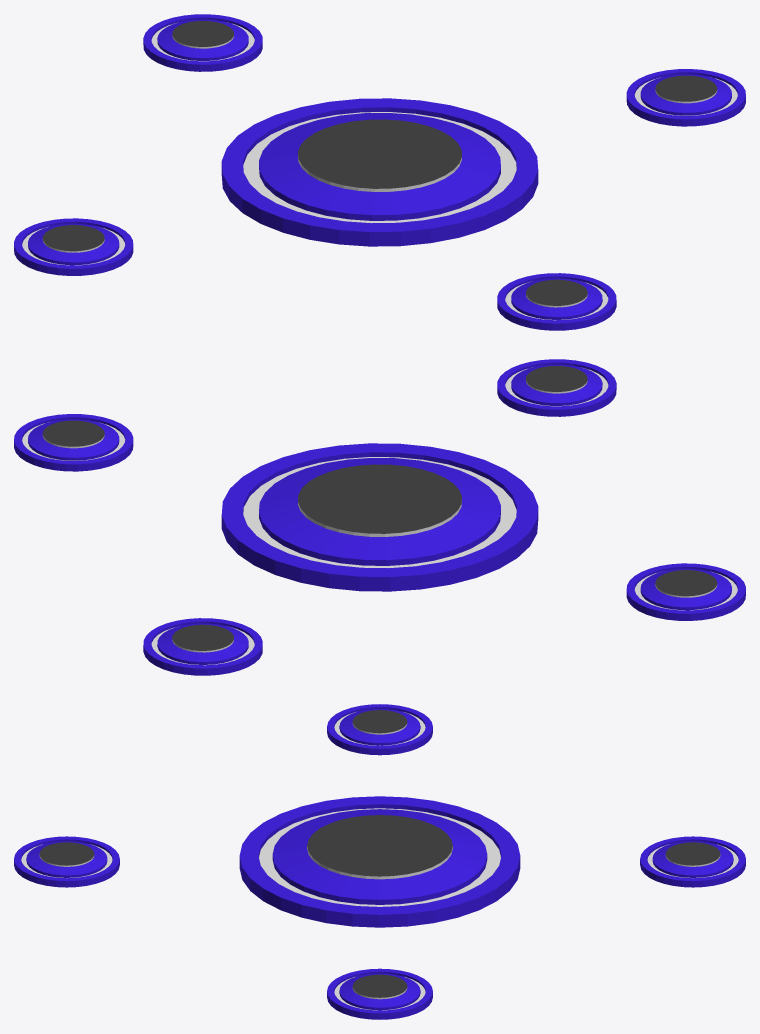
File: platform.glb
The picture shows the model from 3 angles, top to bottom: view 1: azimuth 30°, elevation 25°; view 2: azimuth 150°, elevation 25°; view 3: azimuth 270°, elevation 25°; orthographic projection. The views are drawn at different scales.
Parts seen in each view (by area): view 1: Cylinder, Cylinder.004, Cylinder.005, Cylinder.001, Cylinder.003; view 2: Cylinder, Cylinder.004, Cylinder.005, Cylinder.001, Cylinder.003; view 3: Cylinder, Cylinder.004, Cylinder.005, Cylinder.001, Cylinder.003.
Part boxes in pixels (x1,y1,x2,y2): Cylinder: (221, 98, 538, 246); Cylinder.004: (497, 273, 616, 330); Cylinder.005: (143, 14, 262, 71); Cylinder.001: (626, 69, 745, 126); Cylinder.003: (14, 218, 133, 275); Cylinder: (221, 443, 538, 591); Cylinder.004: (497, 359, 616, 416); Cylinder.005: (143, 618, 262, 675); Cylinder.001: (14, 414, 133, 471); Cylinder.003: (626, 563, 745, 620); Cylinder: (239, 796, 520, 927); Cylinder.004: (14, 836, 119, 887); Cylinder.005: (640, 836, 745, 887); Cylinder.001: (327, 968, 432, 1019); Cylinder.003: (327, 704, 432, 755).
Bounding box in the file's own units: 14.18 × 0.4834 × 14.18.
